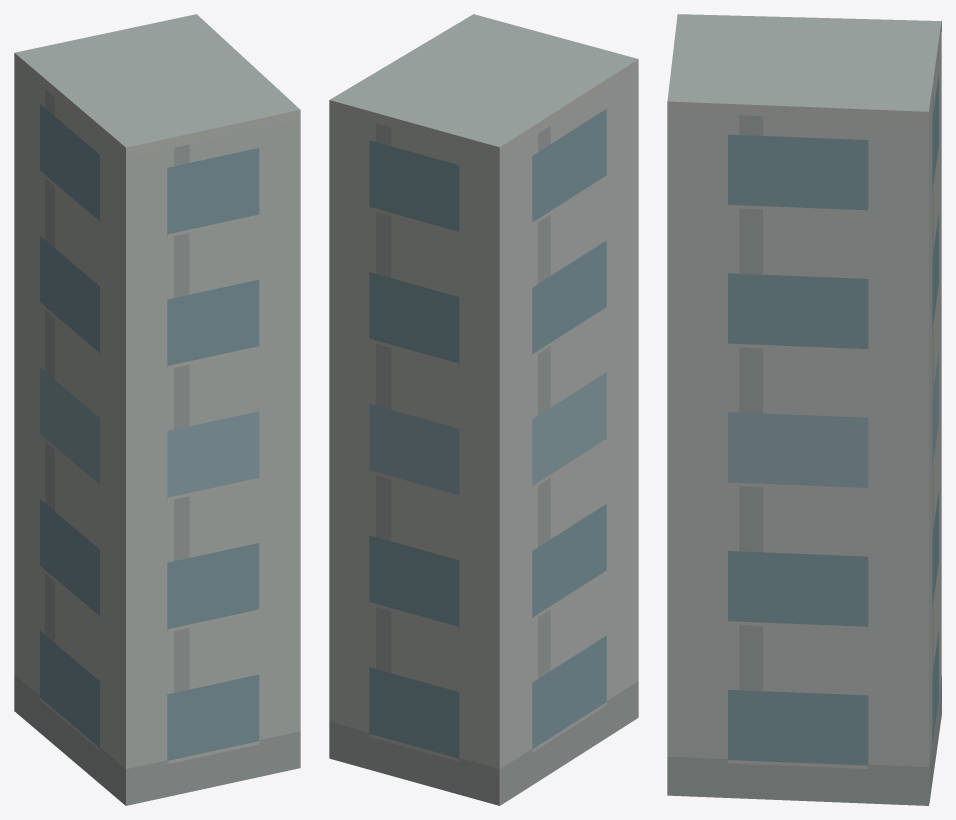
File: survey-upis-32965807.glb
The picture shows the model from 3 angles, left to right: view 1: azimuth 30°, elevation 25°; view 2: azimuth 150°, elevation 25°; view 3: azimuth 270°, elevation 25°; orthographic projection. The views are drawn at different scales.
Parts seen in each view (by area): view 1: survey-upis-32965807.tmp; view 2: survey-upis-32965807.tmp; view 3: survey-upis-32965807.tmp.
Boxes of the visible parts, x1,y1,x2,y2 form: survey-upis-32965807.tmp: [14, 14, 300, 805]; survey-upis-32965807.tmp: [329, 14, 638, 805]; survey-upis-32965807.tmp: [667, 14, 941, 805].
Size of the model in its own units: 4.62 by 15.25 by 5.47.
